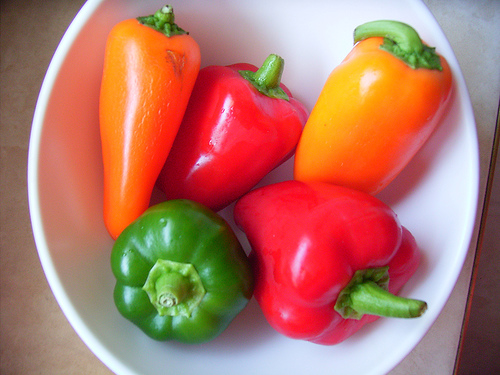capsicum: (232, 181, 428, 346), (293, 20, 455, 198), (98, 3, 203, 240), (156, 51, 309, 207), (112, 199, 249, 347)
